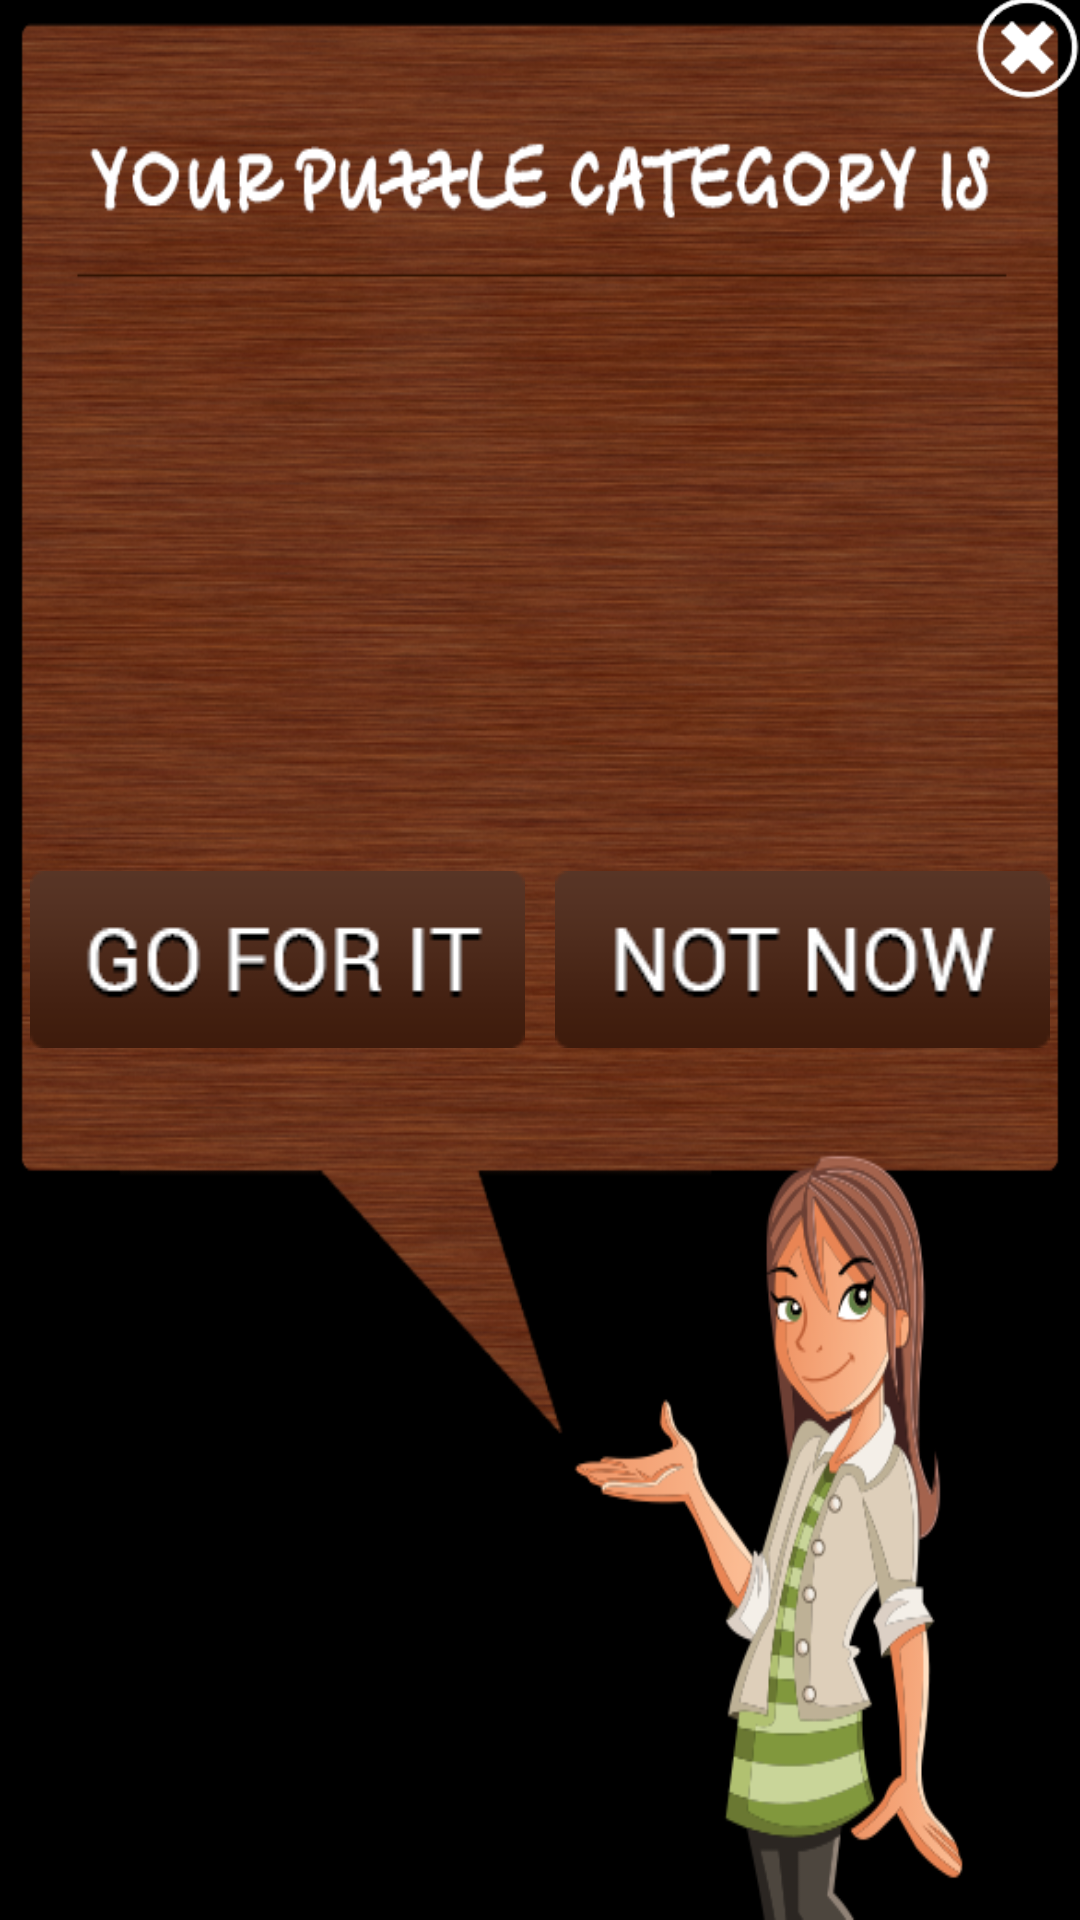

Icons on this 1080 x 1920 Android screen, each with the point to tap as point (x, y):
cancel: point (1027, 50)
